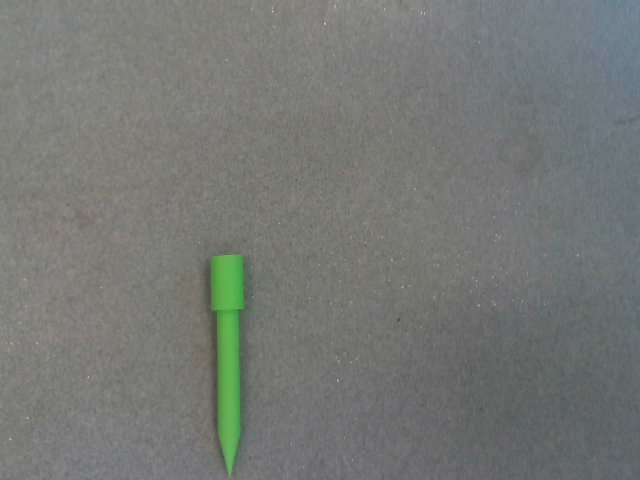Probe: (201, 246, 255, 480)
